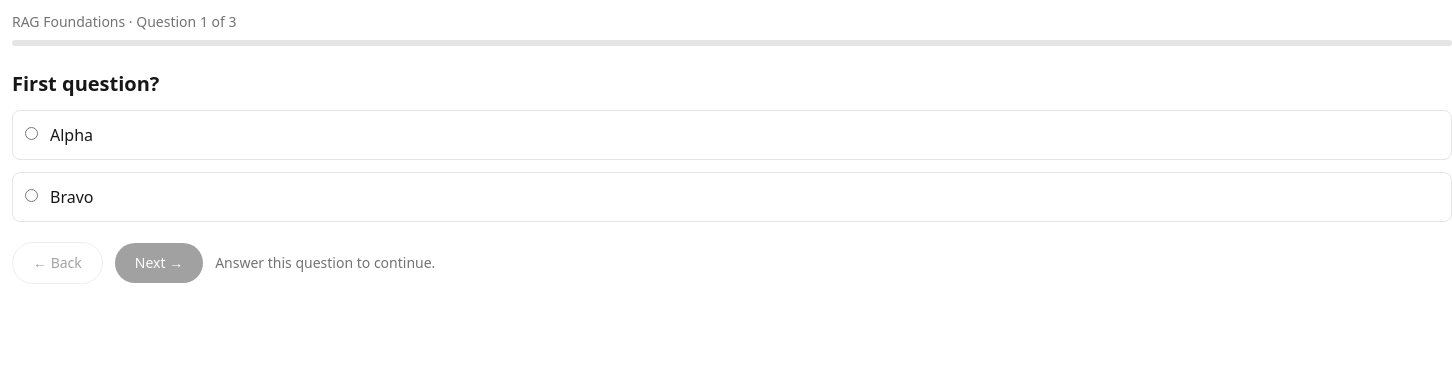
Test case: QuizRunner: one question per page › lets the learner go back to revise, keeping every answer
This screenshot has width=1452, height=387.
Click the radio button labelled "Bravo": coordinates (32, 195) 25,188 -> 38,202
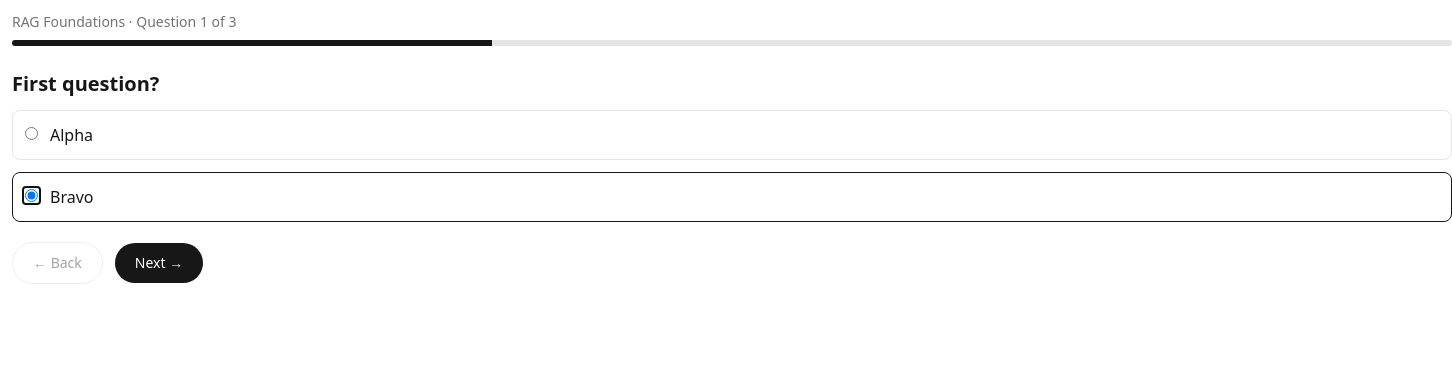
Click the button "Next →": coordinates (159, 262) 115,242 -> 203,282
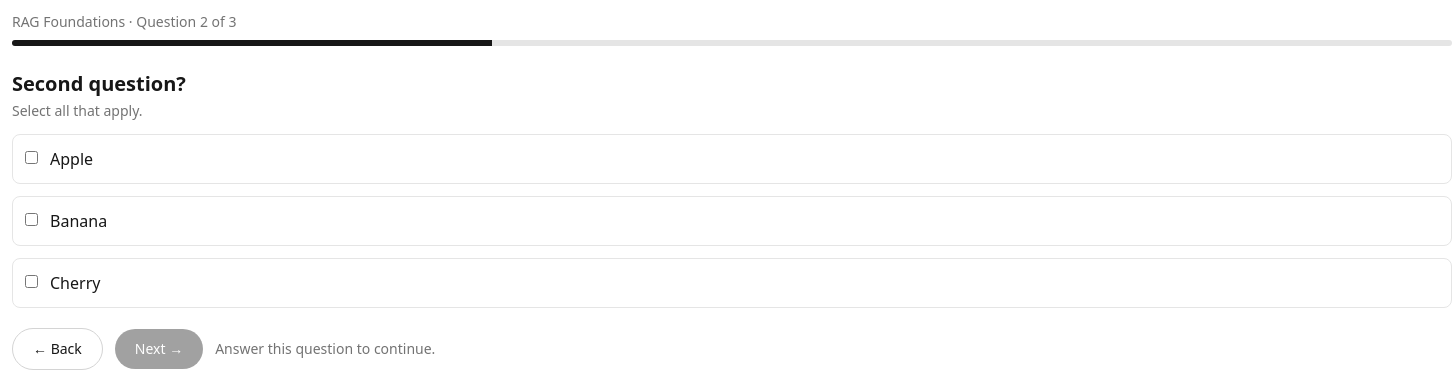
Click the checkbox labelled "Banana": coordinates (32, 219) 25,212 -> 38,226
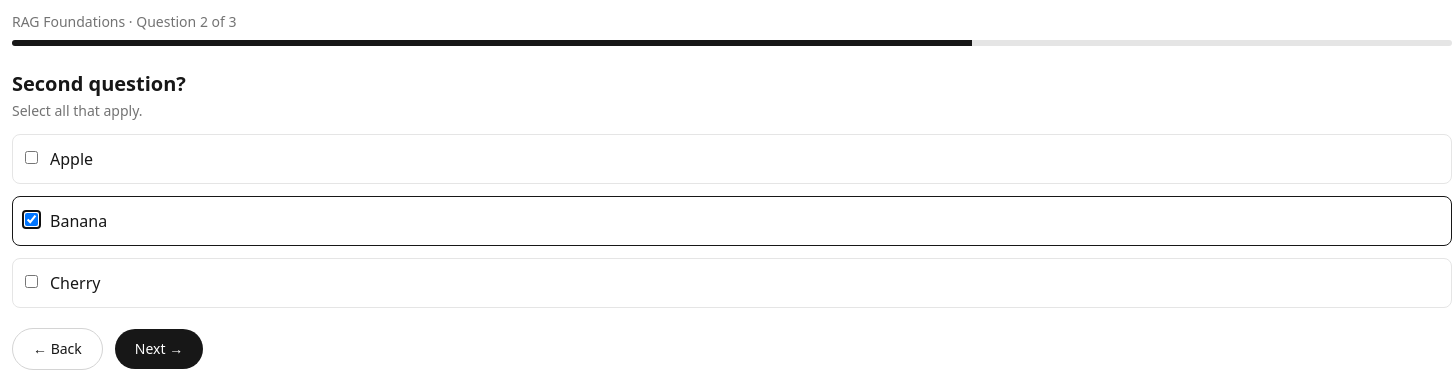
Click the button "← Back": coordinates (57, 348) 12,328 -> 103,370
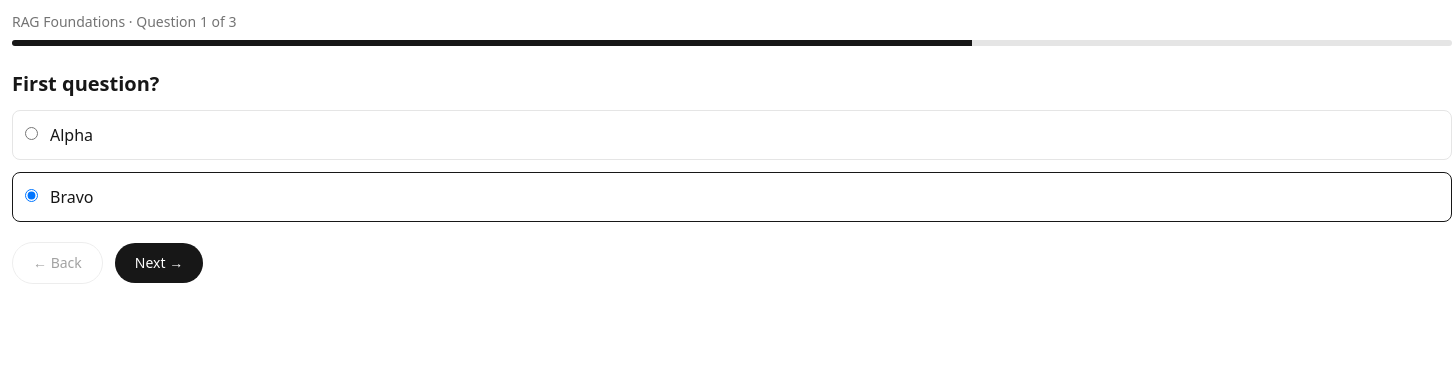
Result: the radio button labelled "Bravo" is checked at 25,188 -> 38,202
Result: the heading reads "First question?" at 12,70 -> 159,97
Click the radio button labelled "Alpha": coordinates (32, 133) 25,126 -> 38,140
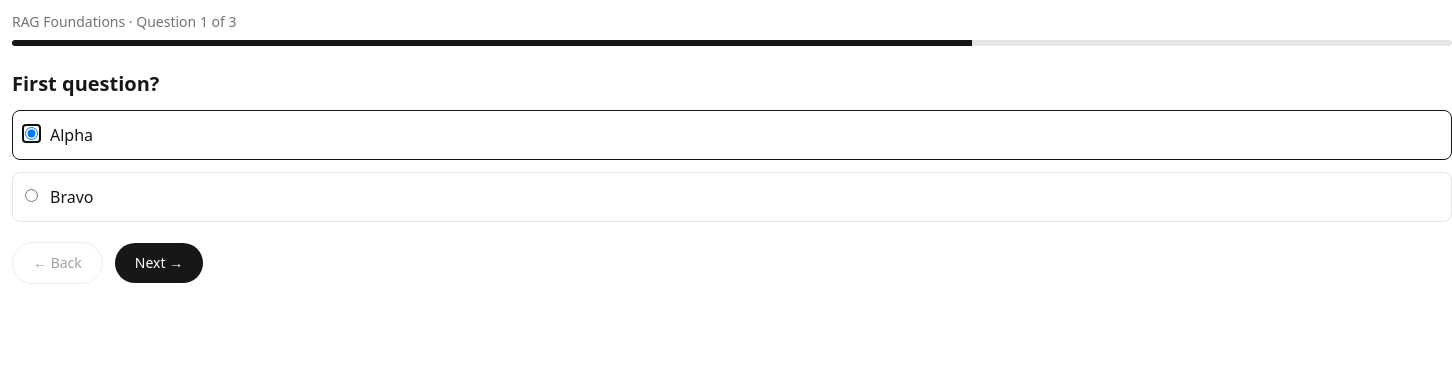
Click the button "Next →": coordinates (159, 262) 115,242 -> 203,282
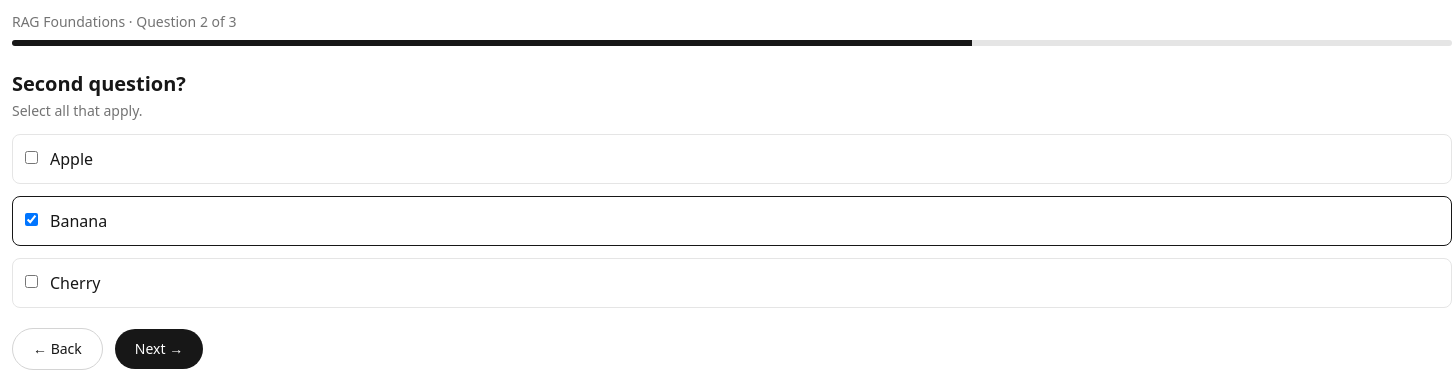
Result: the checkbox labelled "Banana" is checked at 25,212 -> 38,226
Result: the button "← Back" is enabled at 12,328 -> 103,370
